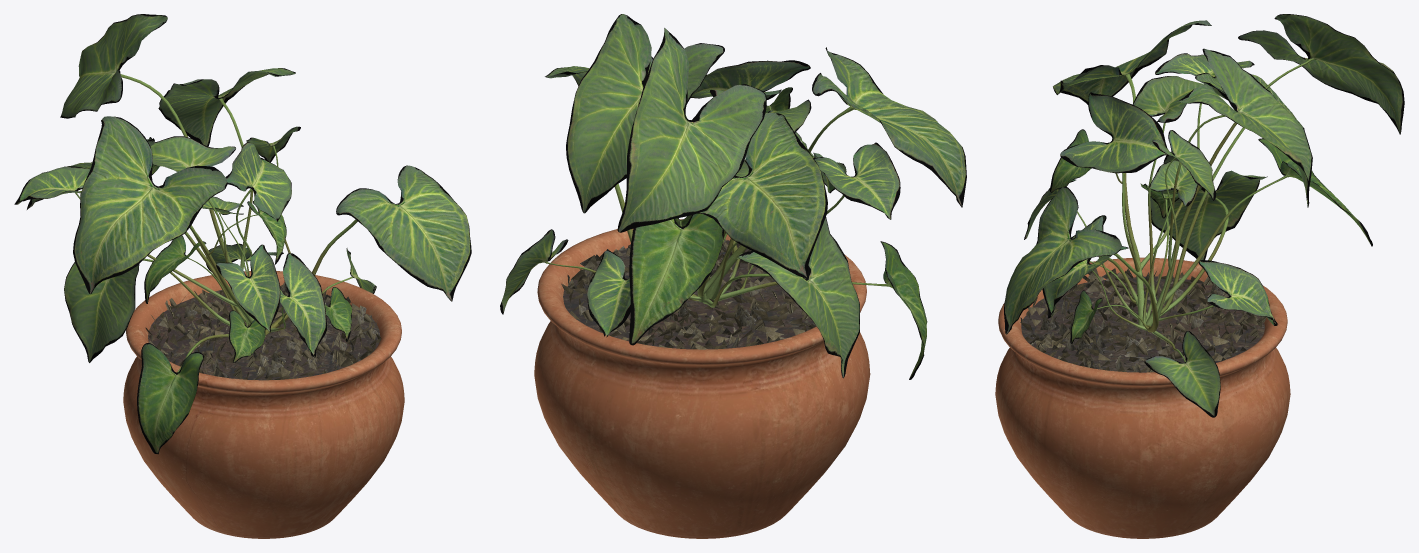
File: potted_plant_02.glb
3 views of the same model, side by side, from view 1: azimuth 30°, elevation 25°; view 2: azimuth 150°, elevation 25°; view 3: azimuth 270°, elevation 25° (orthographic). The views are drawn at different scales.
Visible parts, largest first — view 1: potted_plant_02_leaves, potted_plant_02_pot, potted_plant_02_dirt; view 2: potted_plant_02_leaves, potted_plant_02_pot, potted_plant_02_dirt; view 3: potted_plant_02_leaves, potted_plant_02_pot, potted_plant_02_dirt.
Part boxes in pixels (<box>): potted_plant_02_leaves: <box>14,14,471,454</box>; potted_plant_02_pot: <box>123,271,404,538</box>; potted_plant_02_dirt: <box>145,282,381,380</box>; potted_plant_02_leaves: <box>500,14,966,379</box>; potted_plant_02_pot: <box>534,219,870,538</box>; potted_plant_02_dirt: <box>561,239,816,349</box>; potted_plant_02_leaves: <box>1004,14,1404,417</box>; potted_plant_02_pot: <box>995,257,1290,538</box>; potted_plant_02_dirt: <box>1020,268,1266,372</box>.
Size of what is drawn, in the model's own units: 0.7012 by 0.8412 by 0.6574.
2 materials, 2 textured.
